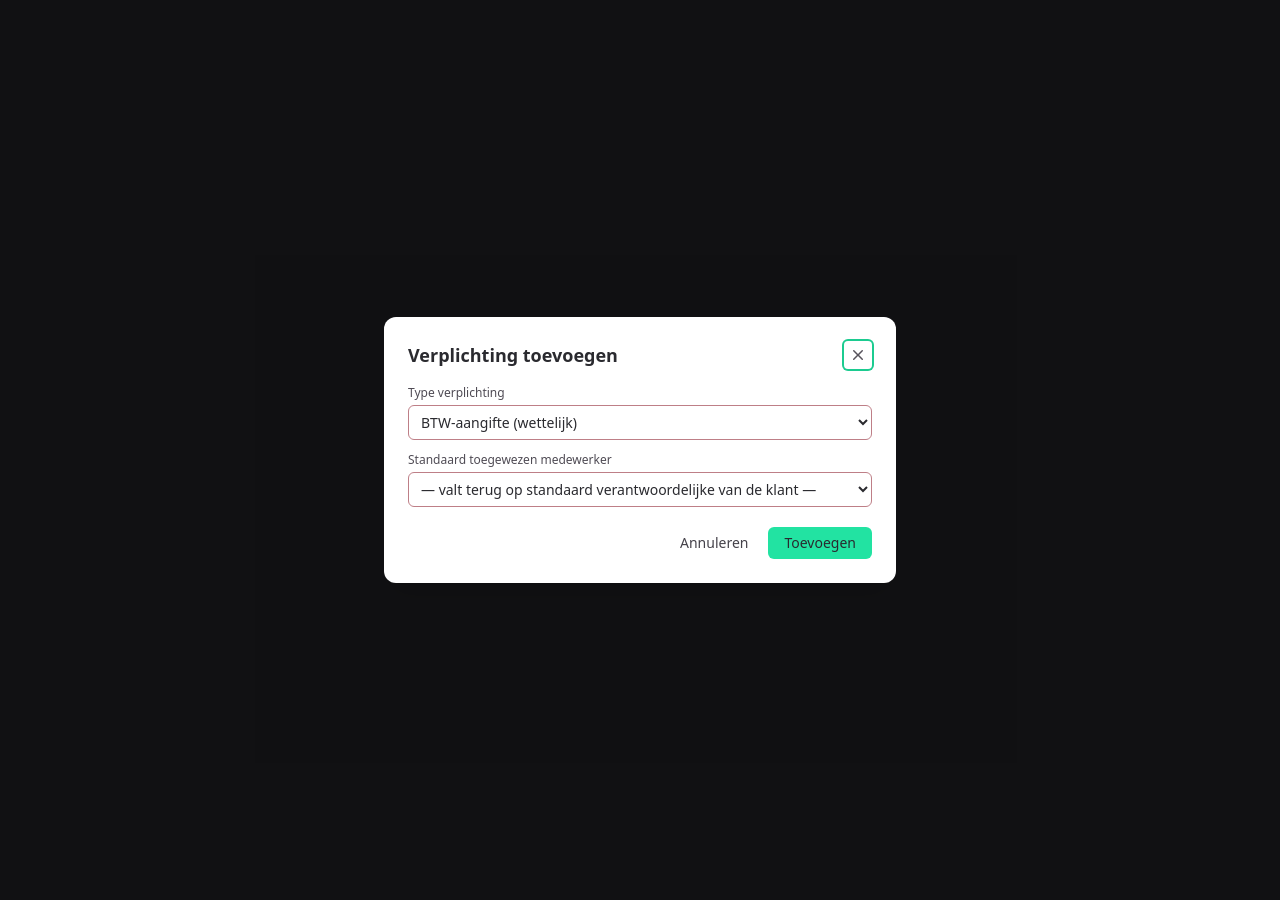
Test case: ClientObligationFormModal — validation & error handling › shows the returned error and keeps the modal open when onSubmit rejects
This screenshot has width=1280, height=900.
Click the button "Toevoegen" at (820,543), box [768, 527, 872, 559]
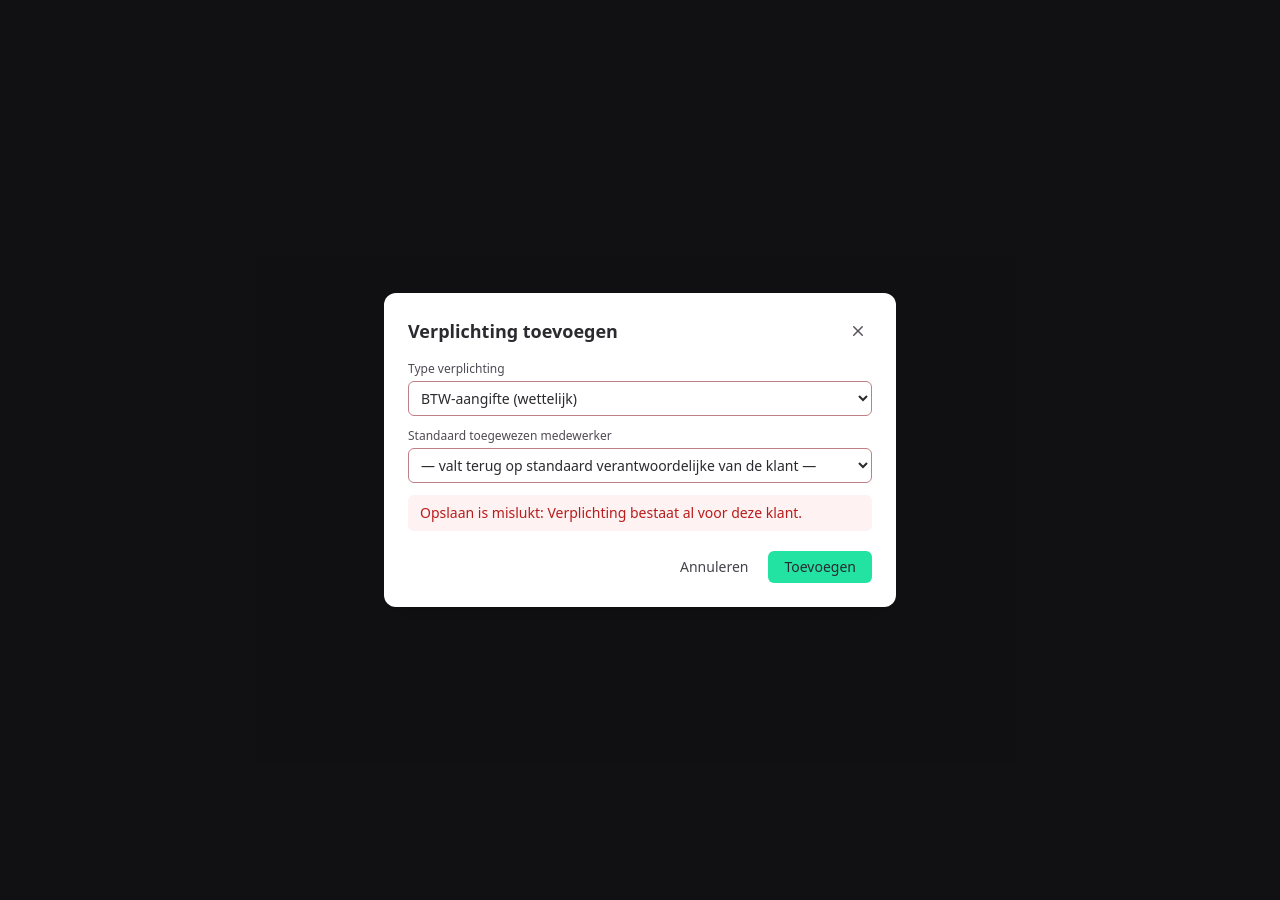
Expected: the message shows "Verplichting bestaat al voor deze klant.", [420, 503, 802, 522]
